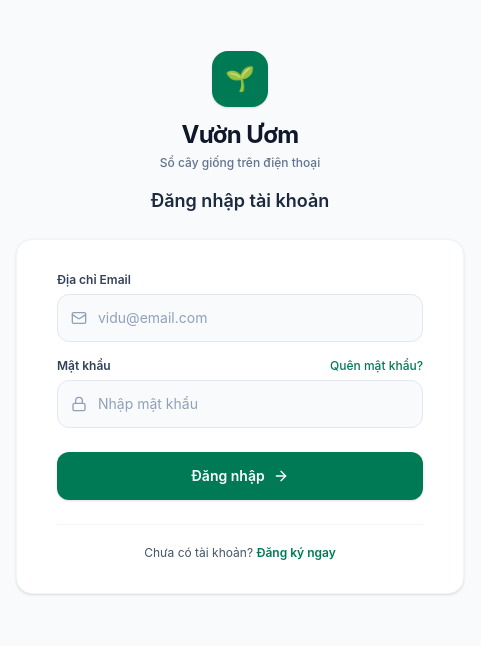
Test case: Auth Screens UX & Flow › LoginScreen › displays user-friendly Vietnamese error on invalid credentials
The width and height of the screenshot is (481, 646).
Type "wrong@example.com" into the field labelled "Địa chỉ Email" at {"x": 240, "y": 318}, box 57,294 -> 423,342
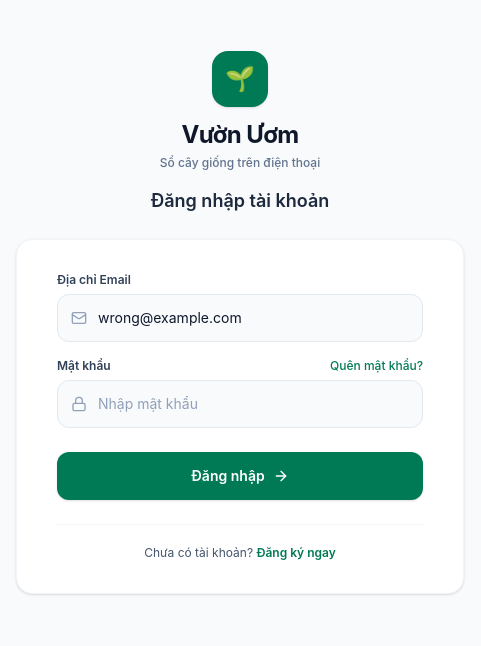
Type "wrongpassword" into the password field labelled "Mật khẩu" at {"x": 240, "y": 404}, box 57,380 -> 423,428
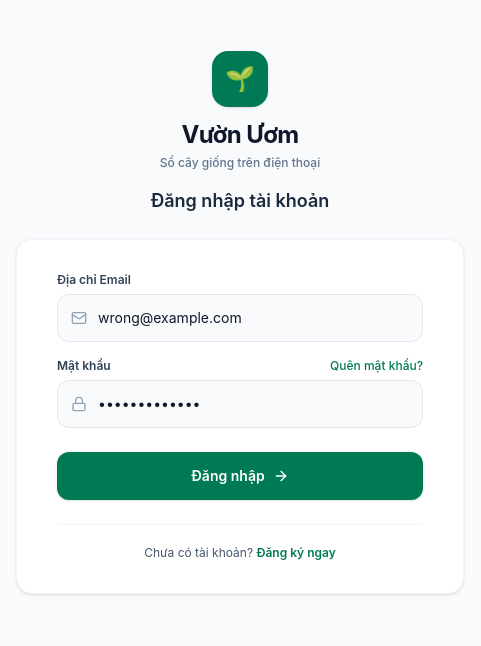
Click the button "Đăng nhập" at {"x": 240, "y": 476}, box 57,452 -> 423,500
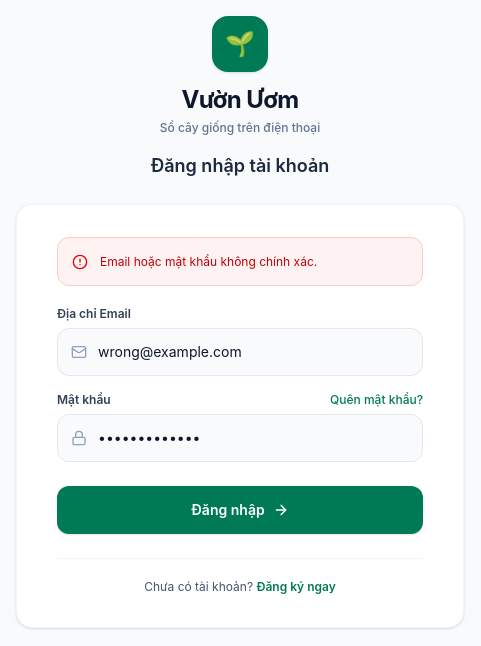
Expected: the message reads "Email hoặc mật khẩu không chính xác.", 100,254 -> 317,269
